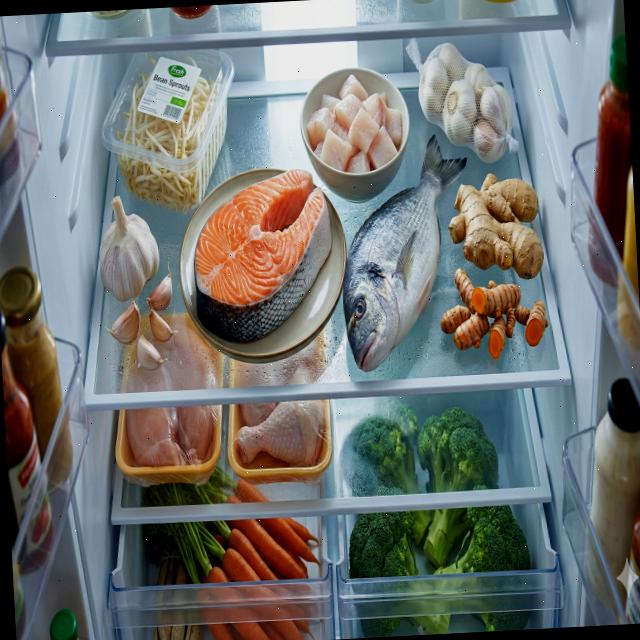bean_sprouts: (110, 54, 231, 216)
brocolli: (336, 391, 534, 638)
carrot: (190, 473, 325, 640)
chicken: (235, 399, 328, 471), (126, 404, 217, 468)
fish: (334, 134, 478, 374), (189, 166, 338, 348)
garlic: (416, 39, 516, 168), (102, 258, 180, 374), (95, 194, 162, 303)
ginger: (446, 170, 545, 283)
turmeric: (438, 264, 551, 364)
